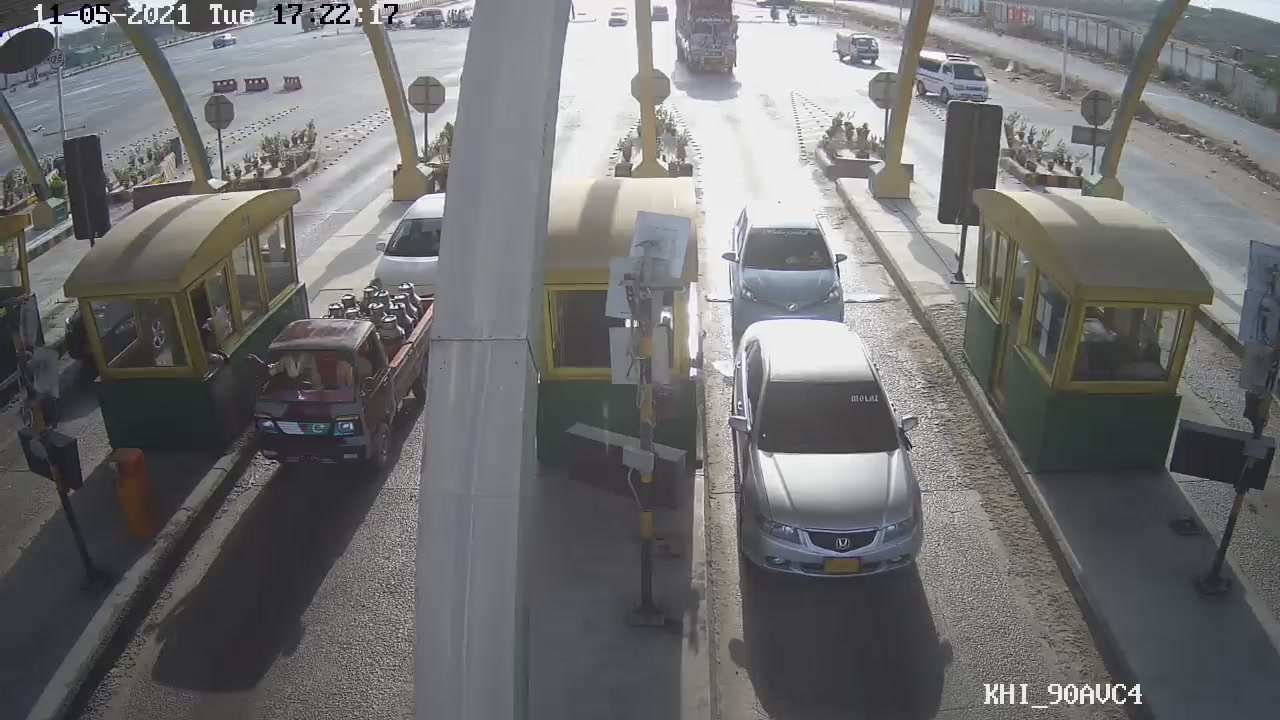F1: (719, 315, 928, 590)
